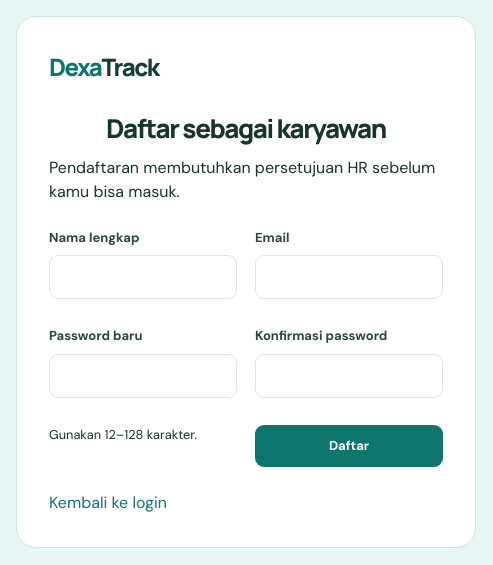
Test: authenticated application › registers without allowing role selection and displays pending approval
This screenshot has width=493, height=565.
Type "New Person" into the field labelled "Nama lengkap" at (143, 278), box [49,256,237,300]
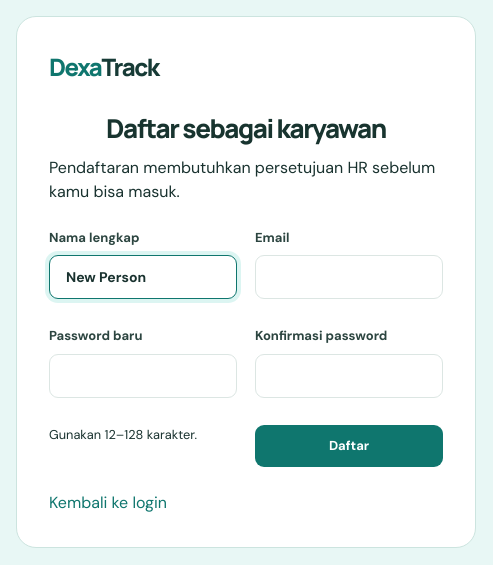
Type "person@example.com" into the field labelled "Email" at (349, 278), box [255,256,443,300]
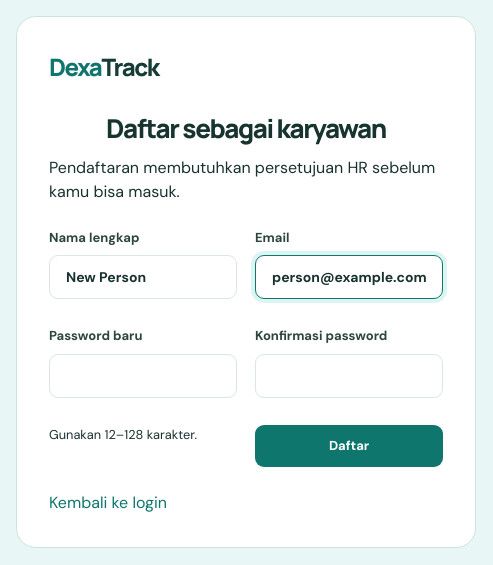
Type "long password 123" into the password field labelled "Password baru" at (143, 376), box [49,354,237,398]
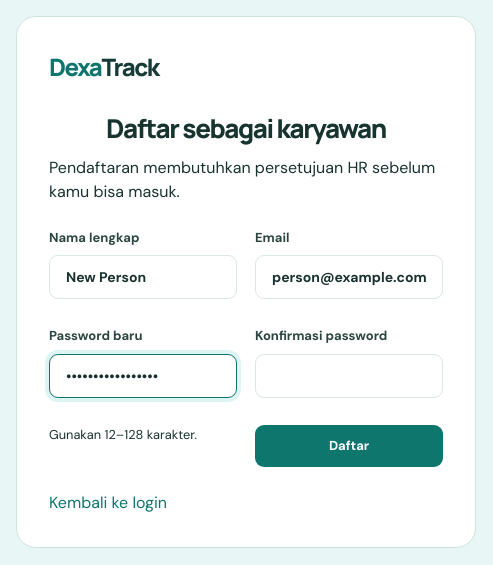
Type "long password 123" into the password field labelled "Konfirmasi password" at (349, 376), box [255,354,443,398]
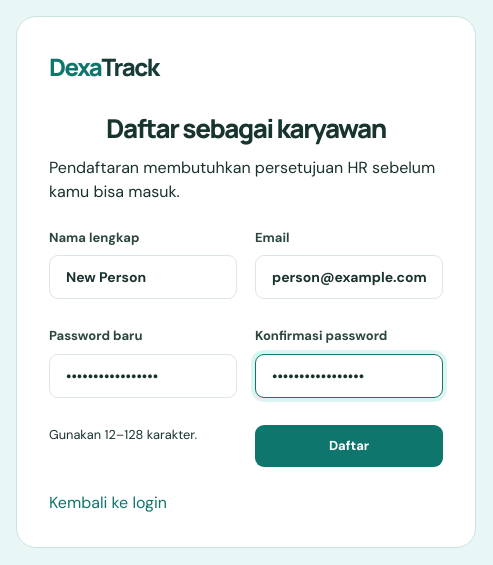
Click the button "Daftar" at (349, 446), box [255,425,443,467]
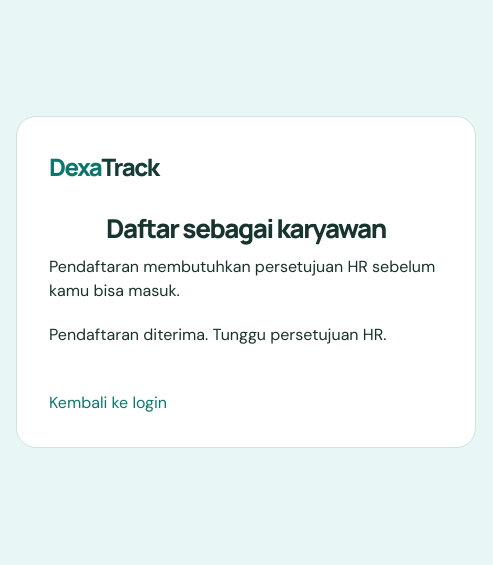
Expected: the text "Pendaftaran diterima. Tunggu persetujuan HR." is shown, [49,324,443,348]
